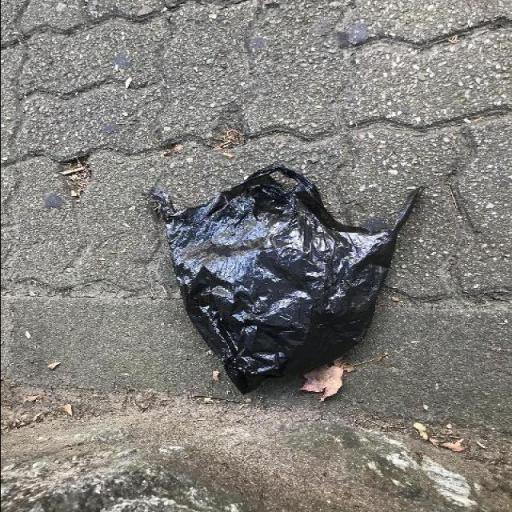plastic-bag: (140, 164, 426, 402)
